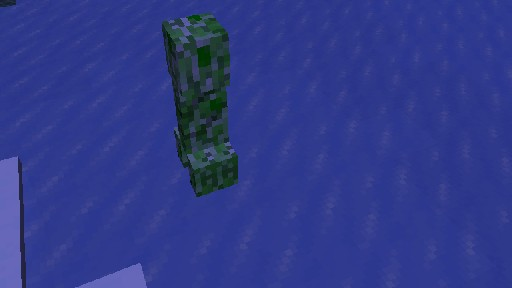creeper: (161, 11, 238, 197)
